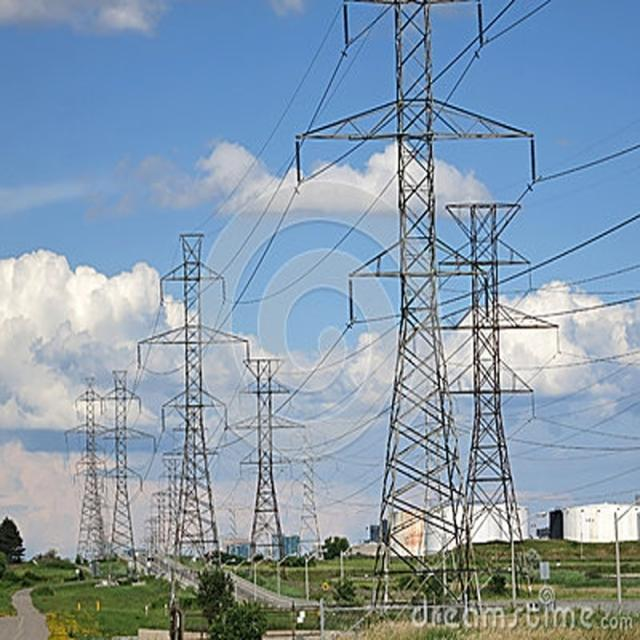non-critical vegetation: (317, 6, 493, 610), (445, 188, 541, 590), (152, 231, 240, 574), (228, 354, 294, 566), (67, 370, 108, 570), (104, 360, 141, 568)
